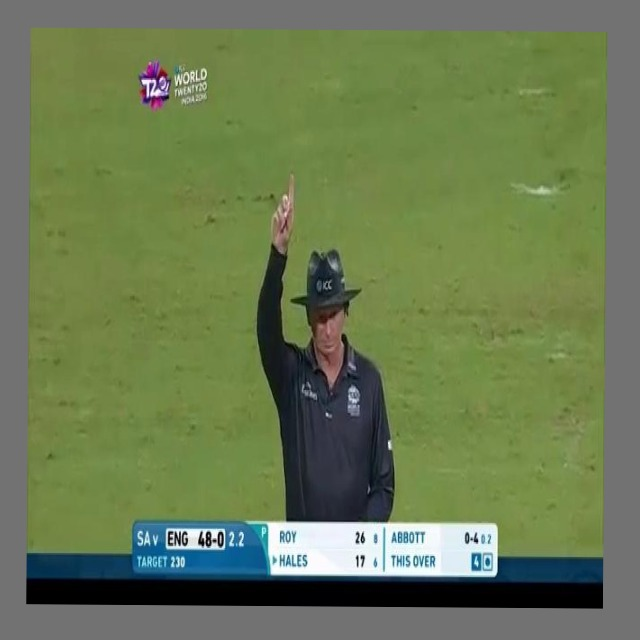Out: (253, 163, 404, 522)
